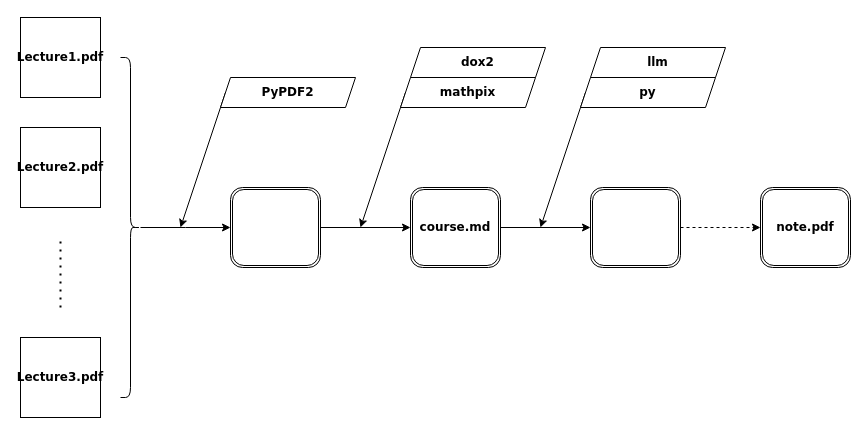
The diagram is 868 pixels wide and 435 high, and some of its shapes have lost their labels. The shapes that lost their labels are listed below. From the top down, each one's box as (x1, y1, x2, y2) in pixels, then its label:
(230, 186, 320, 268): course.pdf
(590, 186, 680, 268): note.md
